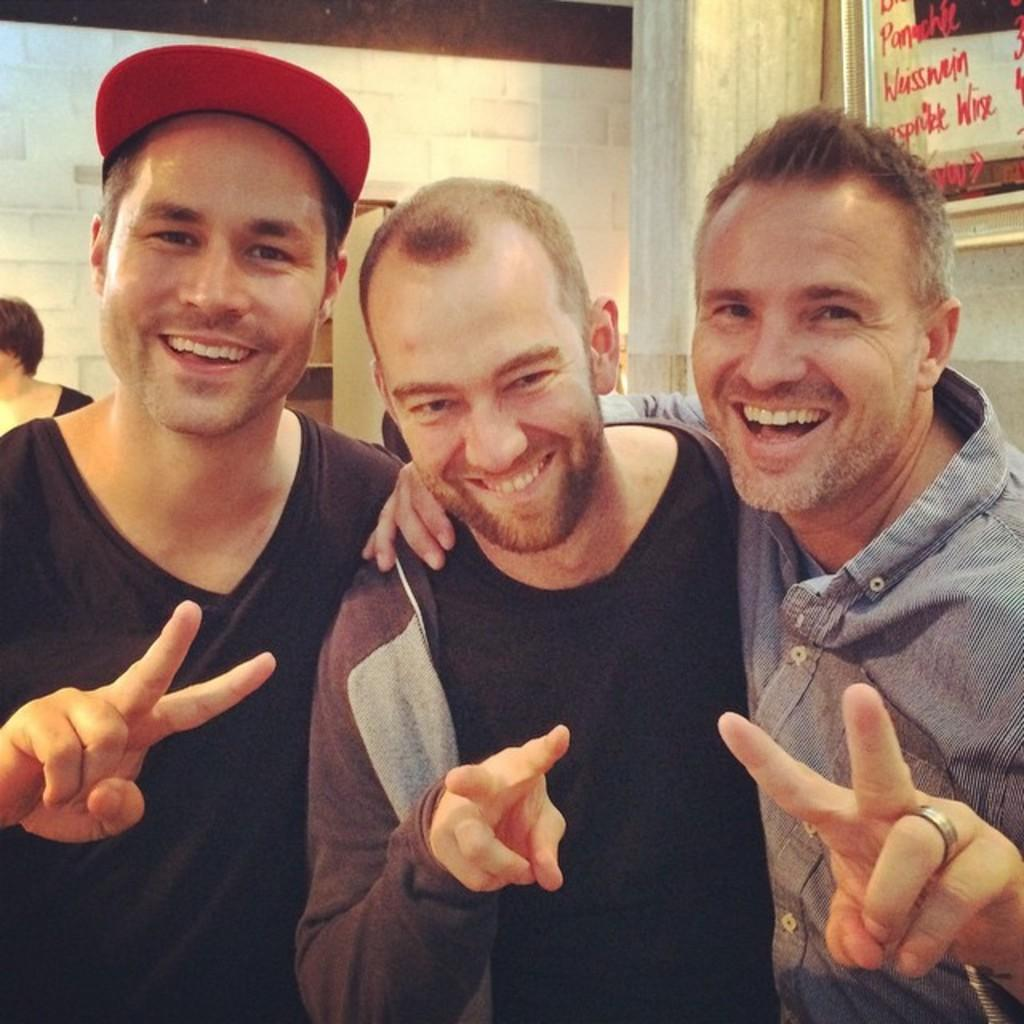Hat: (93, 41, 371, 228)
